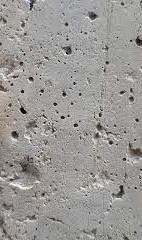Spalling: (1, 1, 142, 240)
